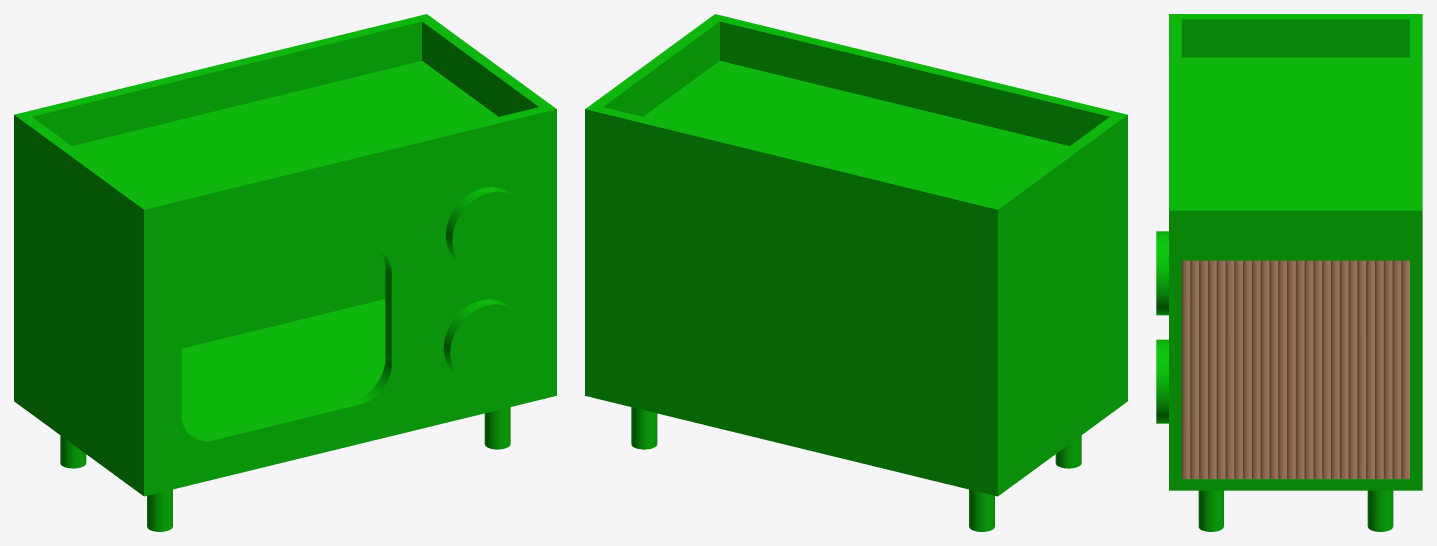
The picture shows the model from 3 angles, left to right: view 1: azimuth 30°, elevation 25°; view 2: azimuth 150°, elevation 25°; view 3: azimuth 270°, elevation 25°; orthographic projection. The views are drawn at different scales.
Parts seen in each view (by area): view 1: 205895; view 2: 205895; view 3: 205895, 204190, 204204, 204196, 204195, 204201, 204206, 204200, 204209, 204205, 204210, 204191 (+15 smaller).
Boxes of the visible parts, left/top/right/bottom form: 205895: left=14, top=14, right=556, bottom=531; 205895: left=585, top=14, right=1127, bottom=531; 205895: left=1156, top=14, right=1422, bottom=531; 204190: left=1216, top=260, right=1225, bottom=479; 204204: left=1339, top=260, right=1348, bottom=479; 204196: left=1269, top=260, right=1278, bottom=479; 204195: left=1260, top=260, right=1269, bottom=479; 204201: left=1313, top=260, right=1322, bottom=479; 204206: left=1357, top=260, right=1366, bottom=479; 204200: left=1304, top=260, right=1313, bottom=479; 204209: left=1383, top=260, right=1392, bottom=479; 204205: left=1348, top=260, right=1357, bottom=479; 204210: left=1392, top=260, right=1401, bottom=479; 204191: left=1225, top=260, right=1234, bottom=479.
Size of the model in its own units: 0.55 by 0.435 by 0.315.
